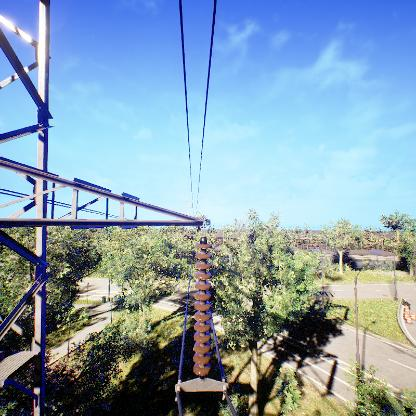insulator: (191, 237, 214, 379)
